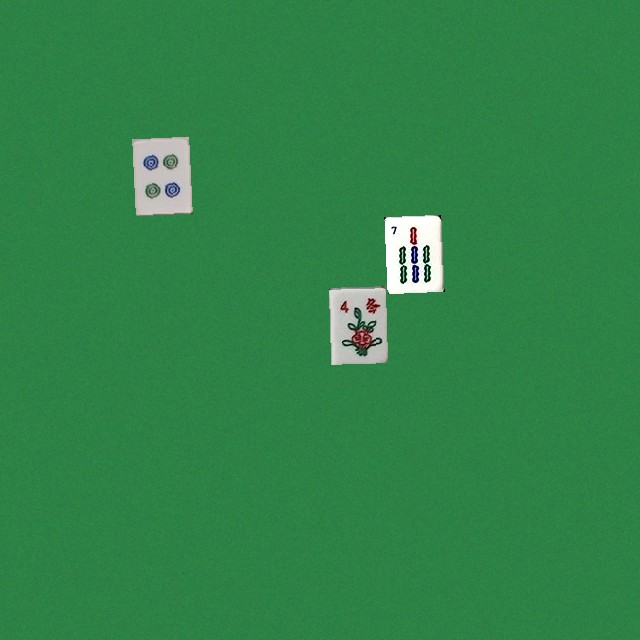tile: (384, 214, 441, 291), (132, 136, 189, 213), (328, 286, 385, 363)
